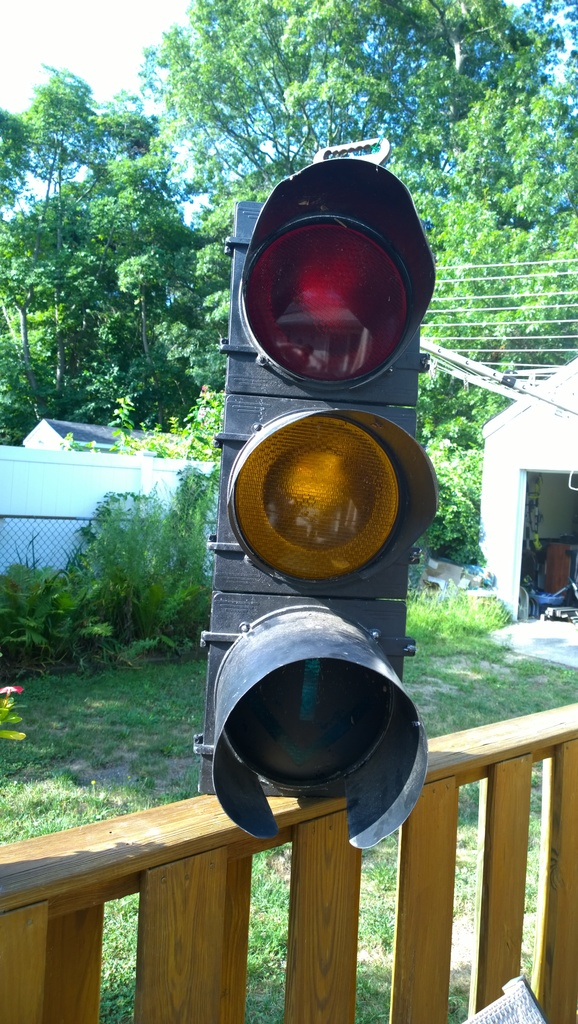red_light: (228, 214, 426, 383)
yellow_light: (221, 415, 422, 584)
